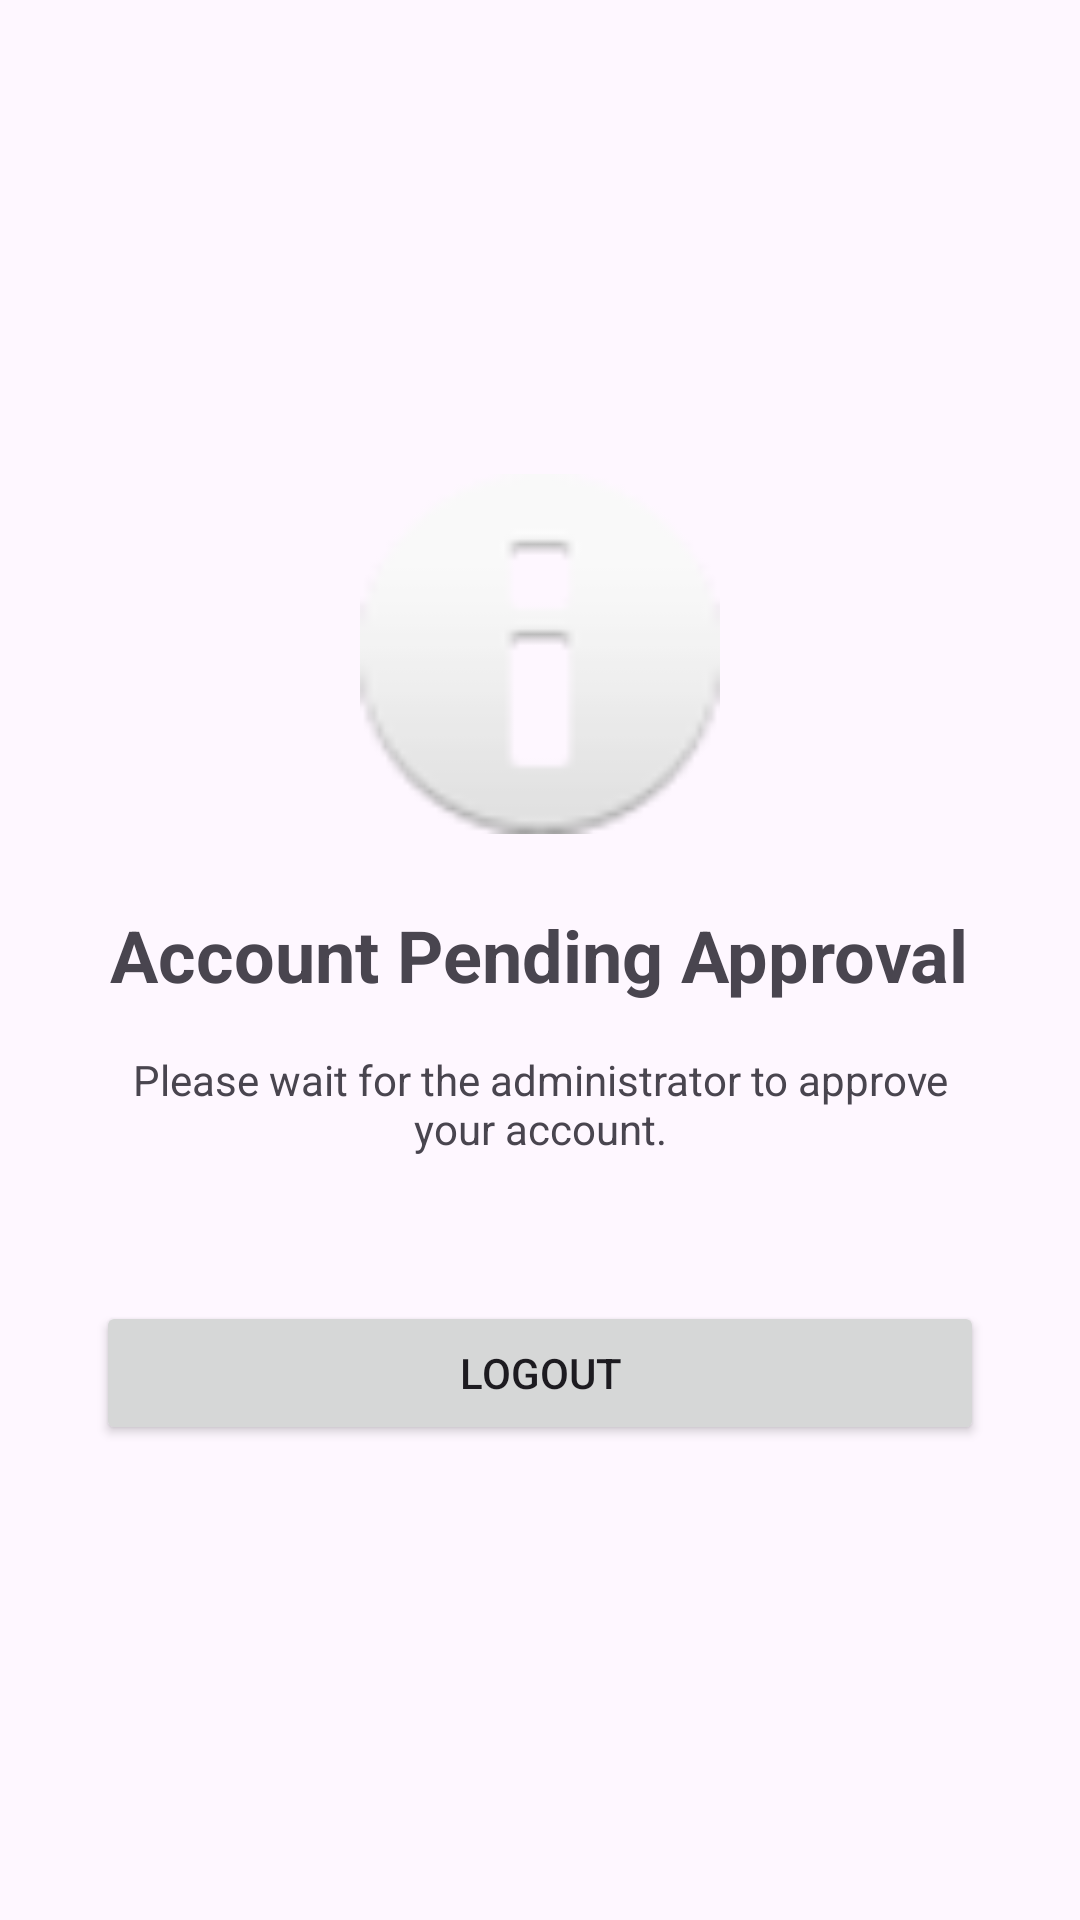

Icon click points for this 1080*1920 phone screenshot, format (x,y):
Info: (540,687)
